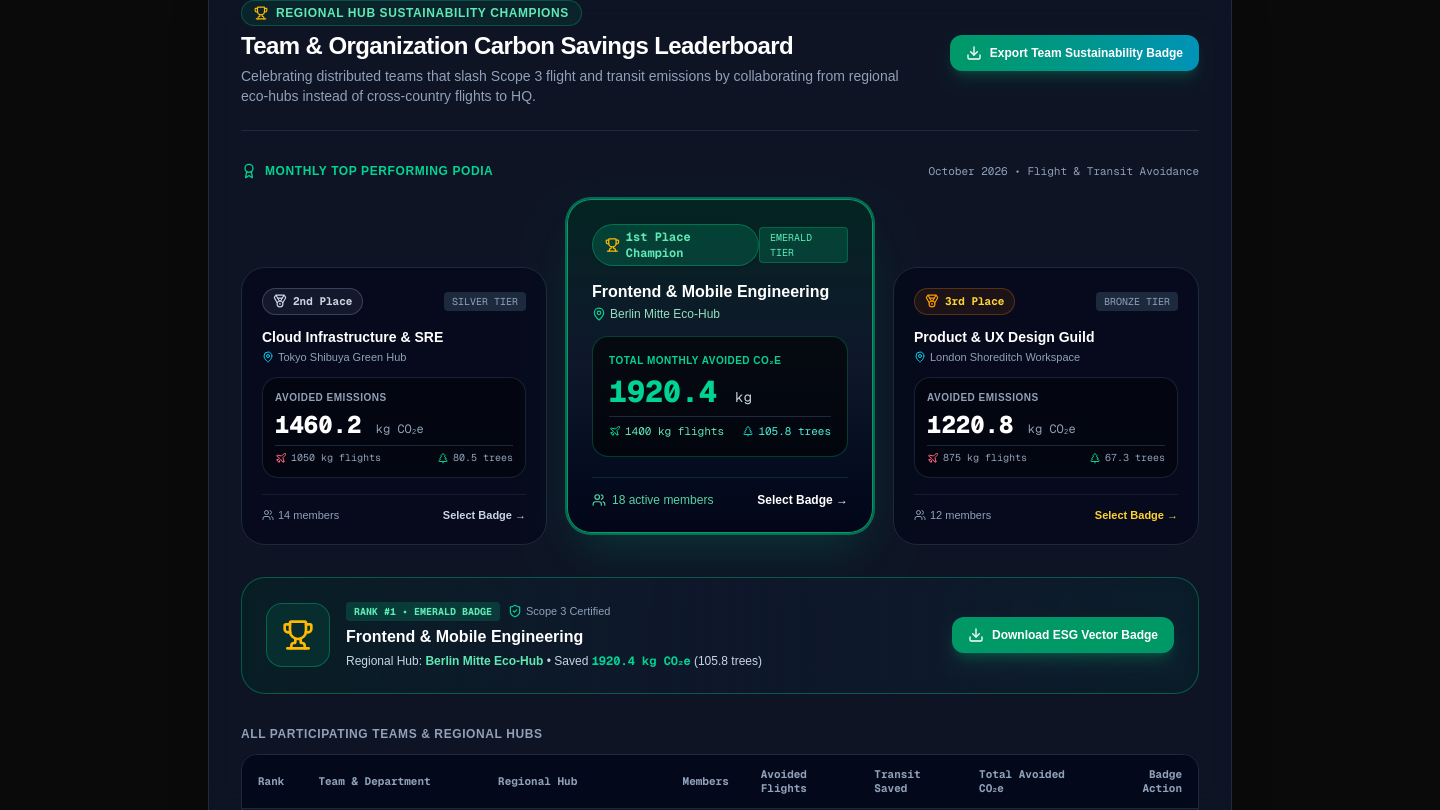
Scenario: CarbonFootprintTracker - Team Carbon Savings Leaderboard & Ranking Podium (#5309) › renders exportable team badge preview and allows selecting different teams
(page scrolled)
Expected: the element with test id "team-badge-preview" is shown, top-left (241, 576), bottom-right (1199, 694)
Expected: the text "Rank #1 • EMERALD Badge" is shown, top-left (346, 602), bottom-right (500, 620)
Click 2nd place podium card
Step 1. Click the element with test id "podium-rank-2" → click(394, 406), box top-left (241, 267), bottom-right (547, 544)
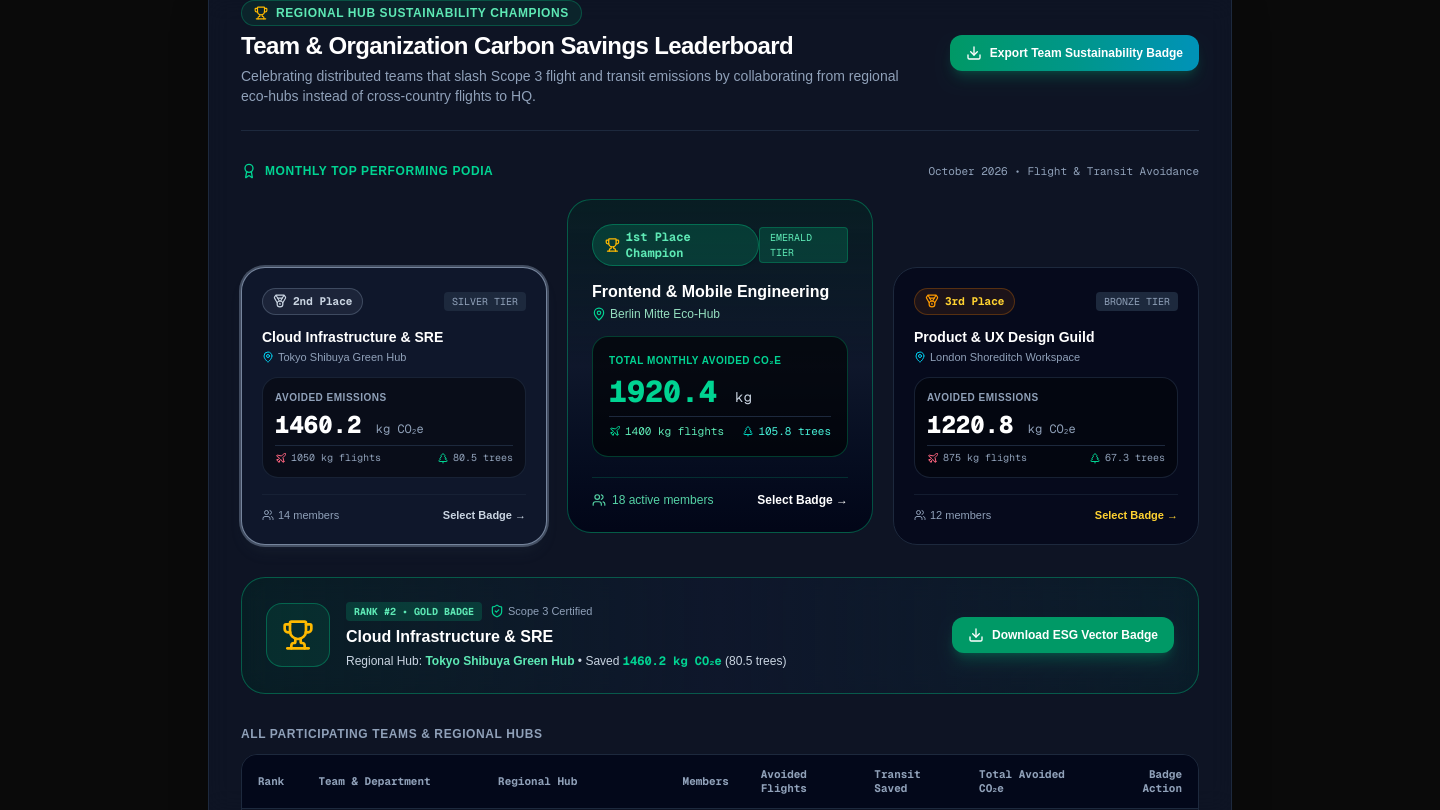
Result: the text "Rank #2 • GOLD Badge" is shown at top-left (346, 602), bottom-right (482, 620)
